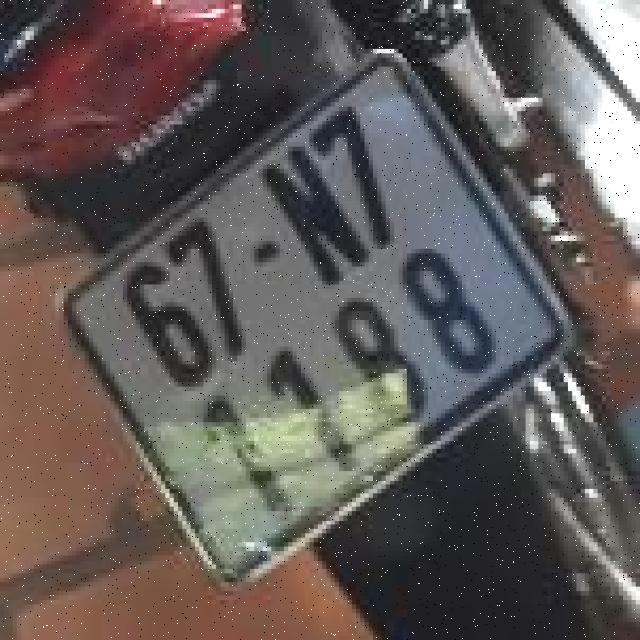1: (242, 331, 388, 492), (185, 383, 321, 547)
6: (108, 238, 233, 410)
7: (154, 198, 275, 369), (301, 86, 413, 260)
8: (382, 222, 530, 397)
9: (306, 271, 455, 441)
N: (239, 128, 383, 303)
